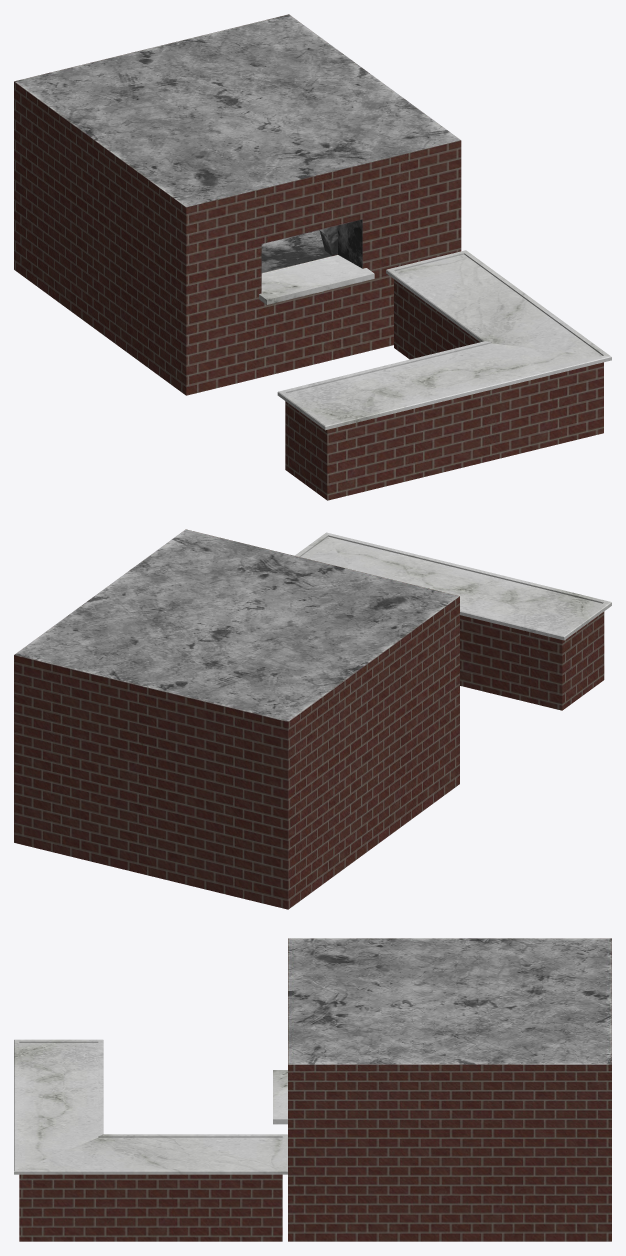
File: brick_ovenfurnace_triangulate_game_asset.glb
The picture shows the model from 3 angles, top to bottom: view 1: azimuth 30°, elevation 25°; view 2: azimuth 150°, elevation 25°; view 3: azimuth 270°, elevation 25°; orthographic projection. The views are drawn at different scales.
Parts seen in each view (by area): view 1: Object_3; view 2: Object_3; view 3: Object_3.
Boxes of the visible parts, x1=… form: Object_3: x1=14, y1=14, x2=611, y2=500; Object_3: x1=14, y1=529, x2=611, y2=909; Object_3: x1=14, y1=938, x2=611, y2=1241.
Size of the model in its own units: 3.65 by 2.29 by 7.01.
Materials: 1 (1 with a texture image).
